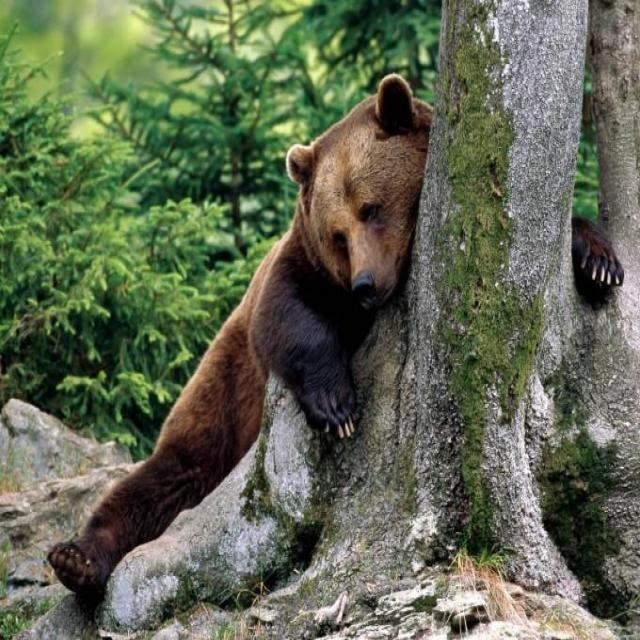Bear: (47, 75, 435, 617)
